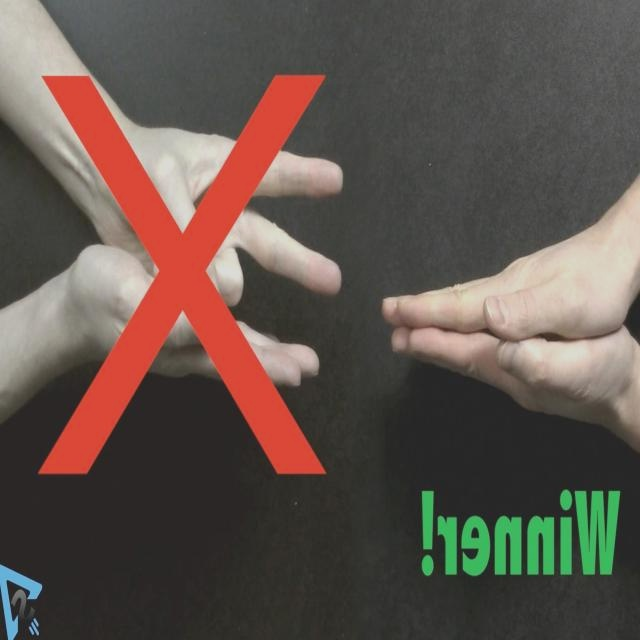Paper: (382, 228, 629, 335)
Scissors: (89, 123, 342, 305)
